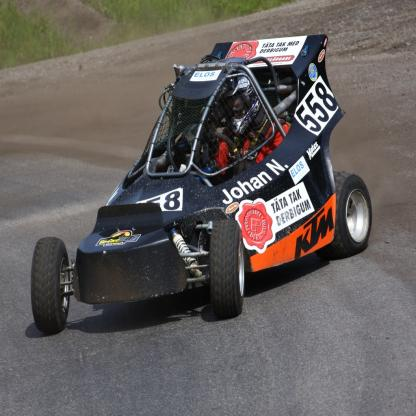Car: (32, 35, 375, 336)
